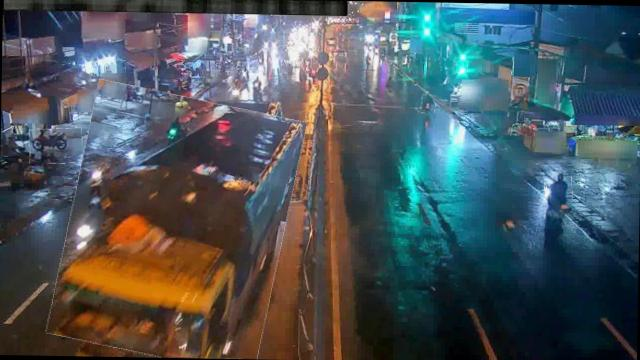Bike: (28, 128, 82, 164), (544, 172, 573, 222), (78, 176, 105, 210), (150, 118, 168, 142), (422, 94, 437, 114), (252, 74, 262, 93)
Truck: (57, 87, 297, 358)
